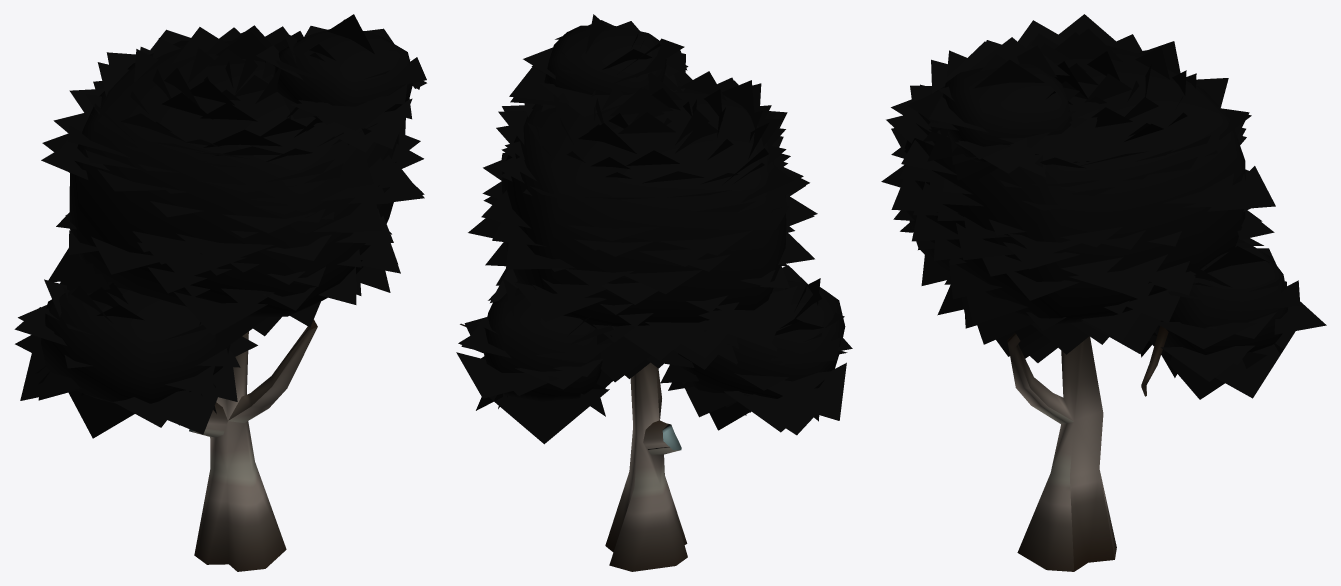
Rendered from Tree_5G.fbx.
3 renders of one model, left to right at view 1: azimuth 30°, elevation 25°; view 2: azimuth 150°, elevation 25°; view 3: azimuth 270°, elevation 25°, orthographic. The views are drawn at different scales.
Parts seen in each view (by area): view 1: Tree_5G; view 2: Tree_5G; view 3: Tree_5G.
Boxes of the visible parts, x1,y1,x2,y2 form: Tree_5G: (14, 14, 426, 571); Tree_5G: (456, 14, 852, 571); Tree_5G: (881, 14, 1326, 571).
Bounding box in the file's own units: 5.75 × 7.71 × 5.83.
